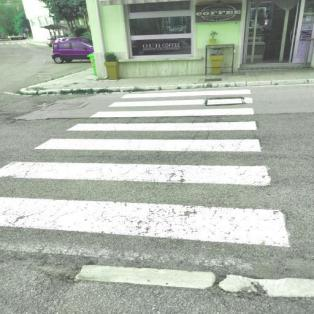Paso de Cebra: (0, 158, 294, 252), (64, 107, 261, 132)
